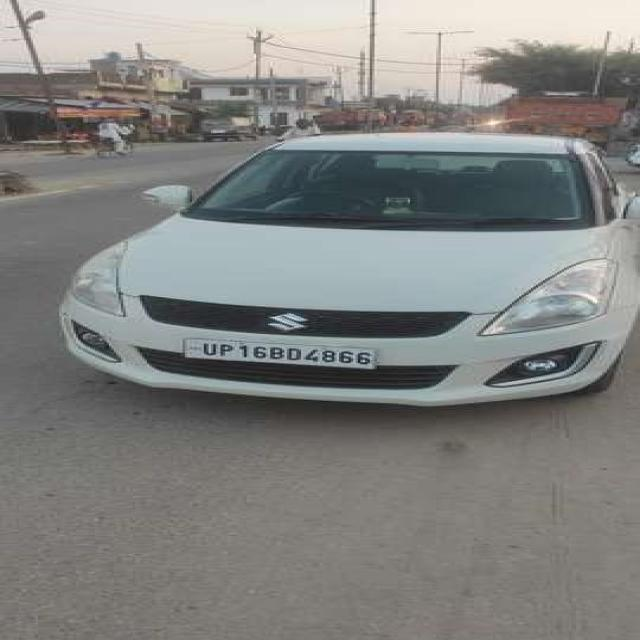licenseplate: (185, 336, 377, 369)
